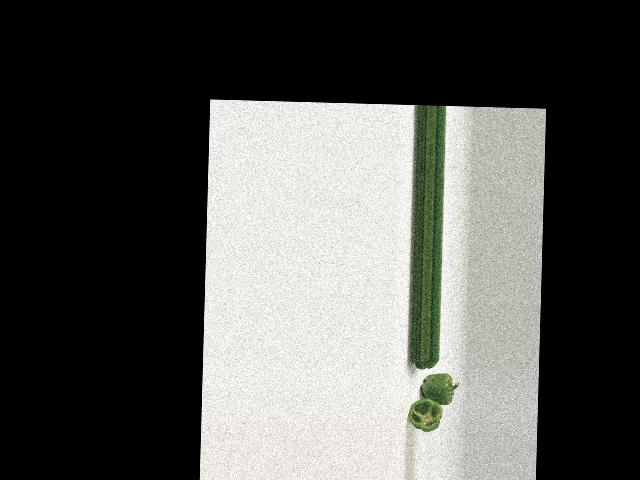bell_pepper: (406, 396, 446, 434)
